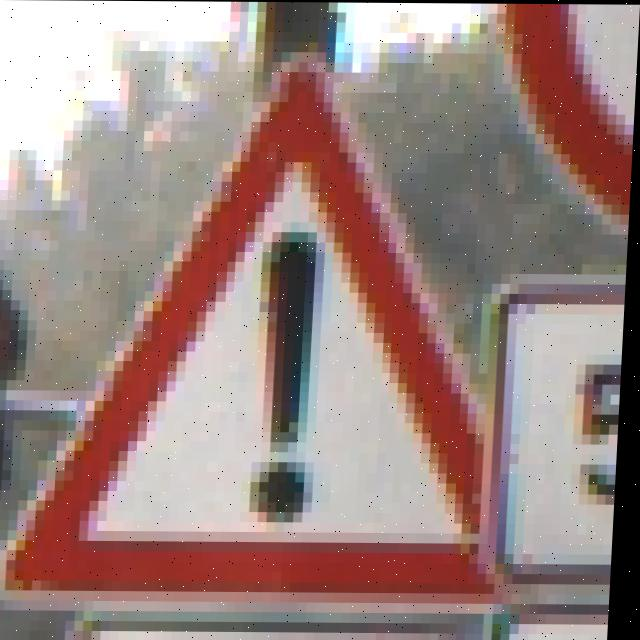warning: (102, 121, 495, 585)
